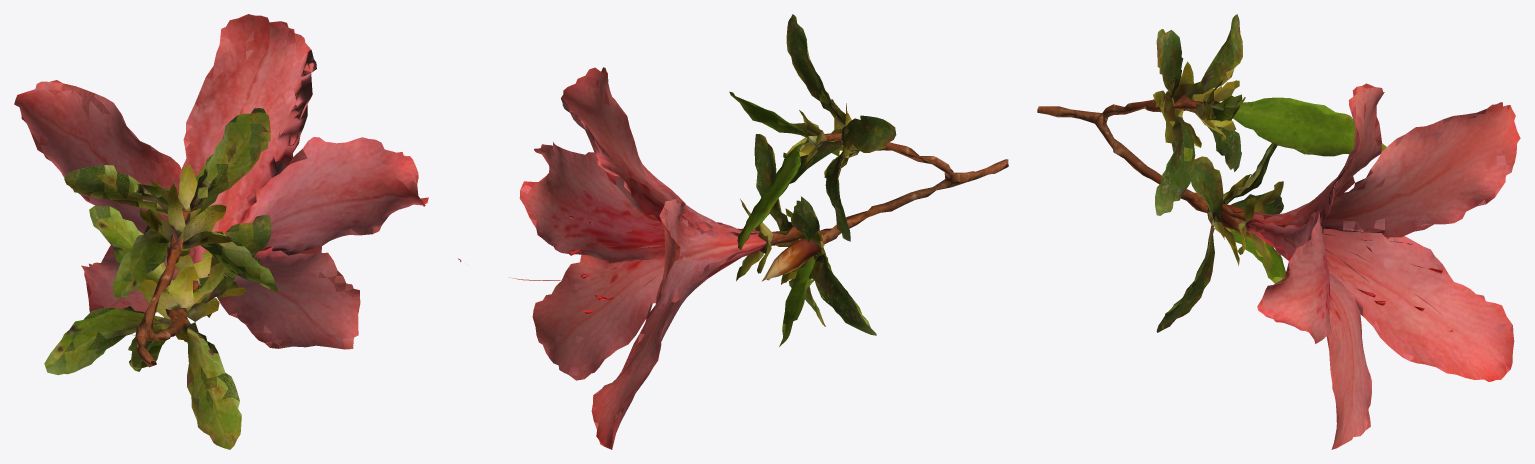
The picture shows the model from 3 angles, left to right: view 1: azimuth 30°, elevation 25°; view 2: azimuth 150°, elevation 25°; view 3: azimuth 270°, elevation 25°; orthographic projection. The views are drawn at different scales.
Visible parts, largest first — view 1: d4cbd63b; view 2: d4cbd63b; view 3: d4cbd63b.
Part boxes in pixels (bbox=[...]): d4cbd63b: bbox=[14, 14, 428, 449]; d4cbd63b: bbox=[458, 14, 1008, 449]; d4cbd63b: bbox=[1037, 14, 1520, 449].
Bounding box in the file's own units: 0.0798 × 0.0663 × 0.0862.
Materials: 1 (1 with a texture image).
